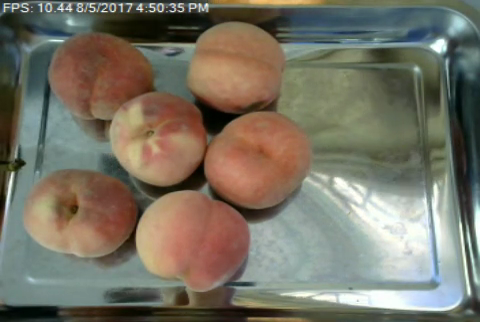Peach: (133, 189, 248, 289), (24, 168, 138, 257), (46, 30, 156, 122), (206, 111, 309, 209), (105, 90, 208, 187), (187, 21, 284, 112)
